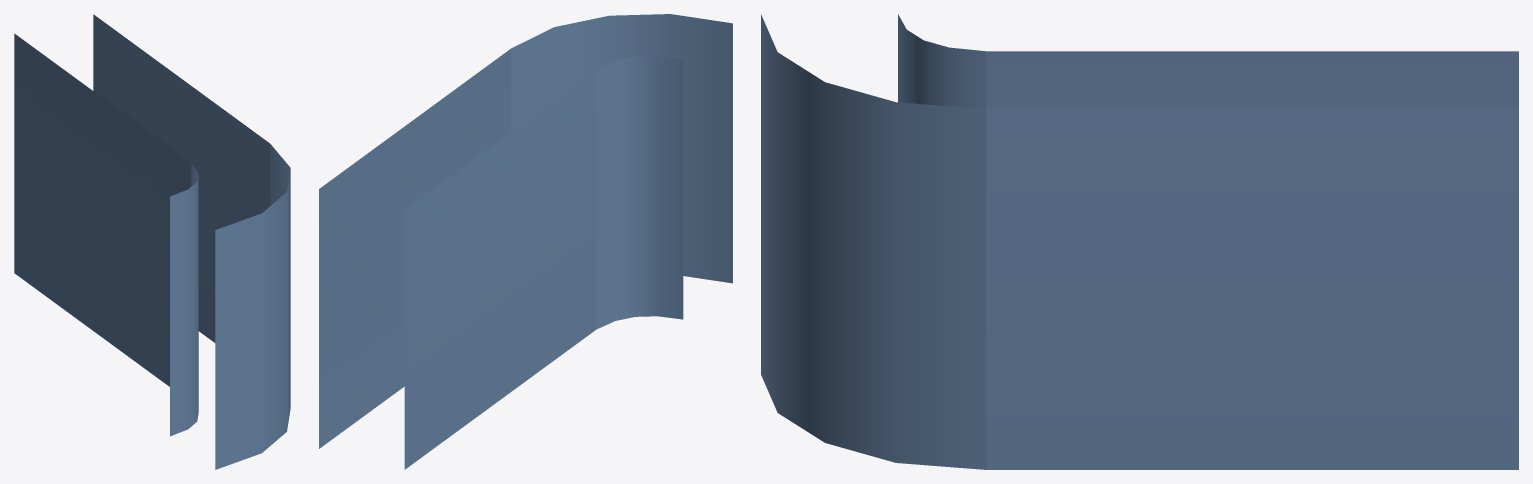
File: CornerandWall.fbx
3 views of the same model, side by side, from view 1: azimuth 30°, elevation 25°; view 2: azimuth 150°, elevation 25°; view 3: azimuth 270°, elevation 25° (orthographic). The views are drawn at different scales.
Parts seen in each view (by area): view 1: CornerandWall; view 2: CornerandWall; view 3: CornerandWall.
Part boxes in pixels (x1,y1,x2,y2): CornerandWall: [14, 14, 290, 469]; CornerandWall: [319, 14, 732, 469]; CornerandWall: [761, 14, 1518, 469].
Bounding box in the file's own units: 52.09 × 92.08 × 175.
